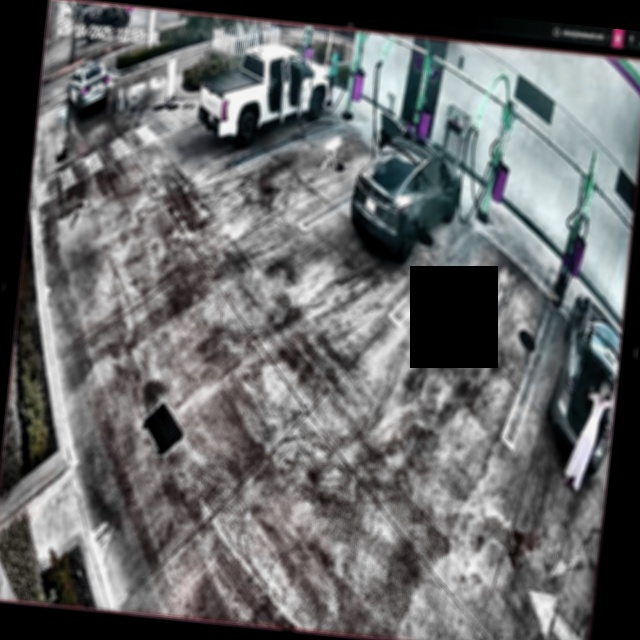Car: (345, 114, 469, 269)
